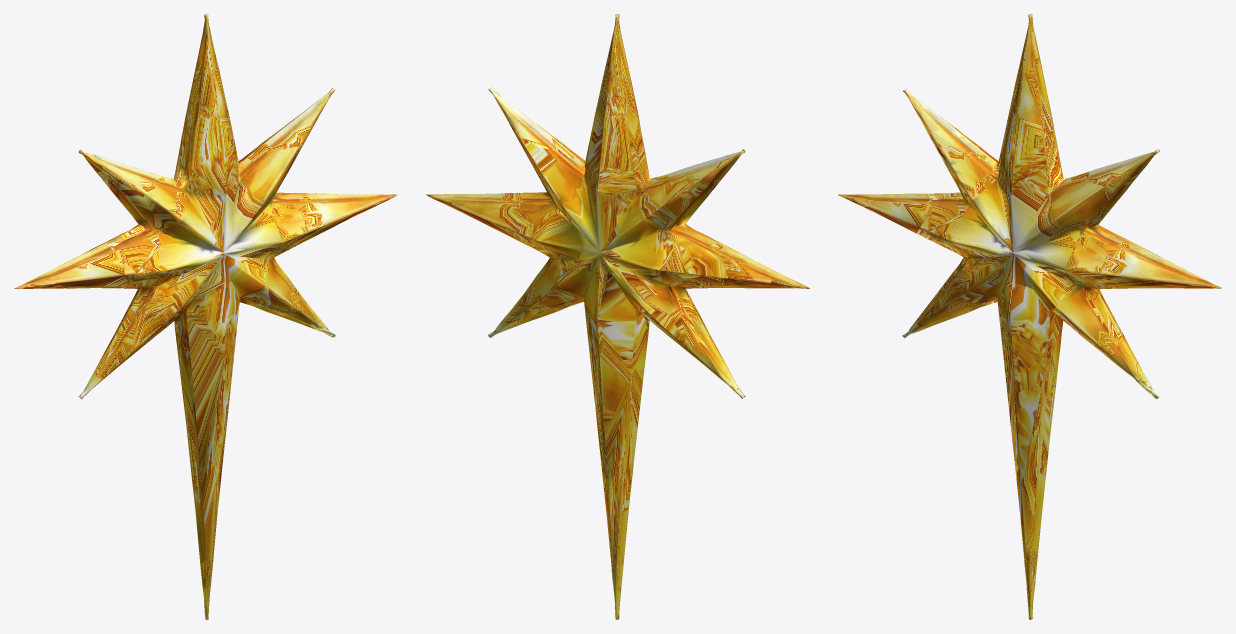
Rendered from star.glb.
3 views of the same model, side by side, from view 1: azimuth 30°, elevation 25°; view 2: azimuth 150°, elevation 25°; view 3: azimuth 330°, elevation 25° (orthographic).
Parts seen in each view (by area): view 1: tripo_node_b01256c8-5497-457a-9b76-d32ac074527f; view 2: tripo_node_b01256c8-5497-457a-9b76-d32ac074527f; view 3: tripo_node_b01256c8-5497-457a-9b76-d32ac074527f.
Part boxes in pixels (x1,y1,x2,y2): tripo_node_b01256c8-5497-457a-9b76-d32ac074527f: (14, 14, 397, 619); tripo_node_b01256c8-5497-457a-9b76-d32ac074527f: (426, 14, 809, 619); tripo_node_b01256c8-5497-457a-9b76-d32ac074527f: (838, 14, 1221, 619).
Bounding box in the file's own units: 0.652 × 0.9833 × 0.1228.
Materials: 1 (1 with a texture image).
